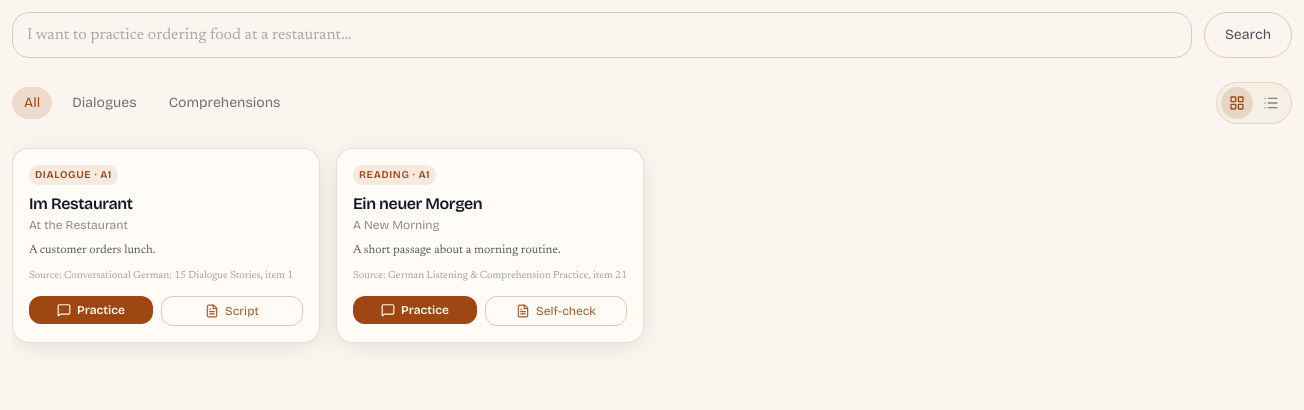
Test: searching › shows the server's own sentence when the search is refused
Type "ordering food" into the search field named "Search scenarios".
click(602, 35); type("ordering food")  # box [12, 12, 1192, 58]
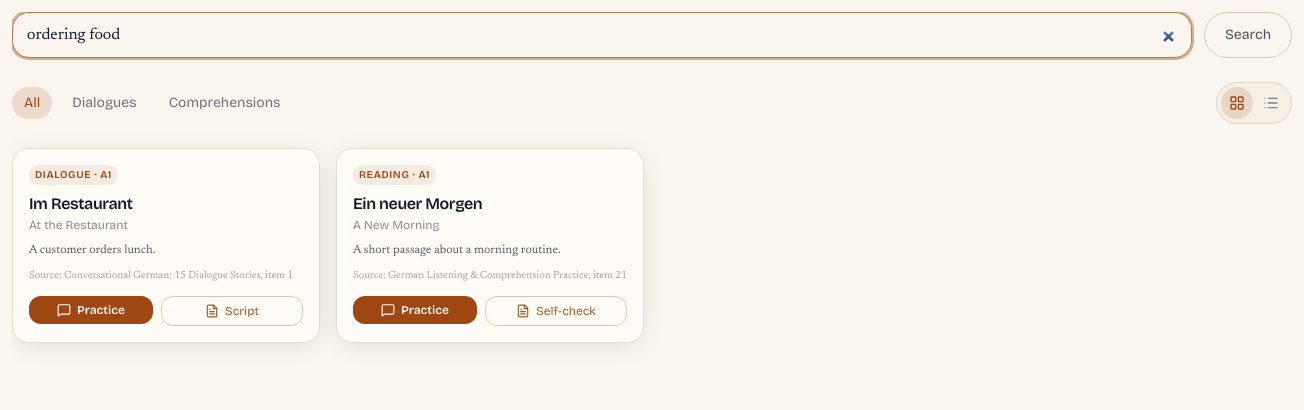
Click the button "Search".
click(1248, 35)  # box [1204, 12, 1292, 58]
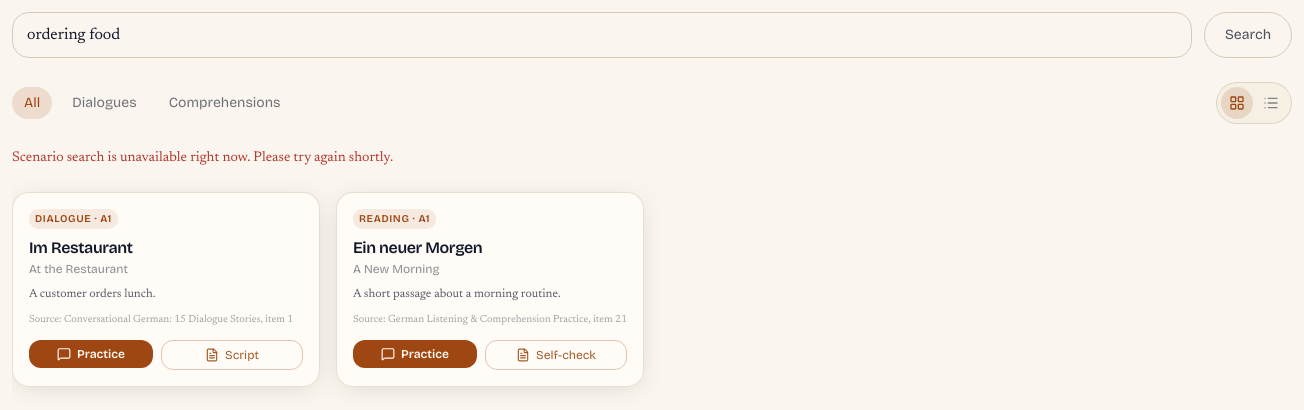
Expected: the link "Im Restaurant" is shown, [29, 238, 132, 257]
Now the message shows "search is unavailable", box [12, 151, 393, 165]
